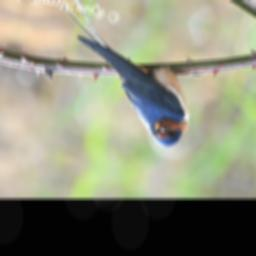Swallow: (32, 2, 212, 152)
